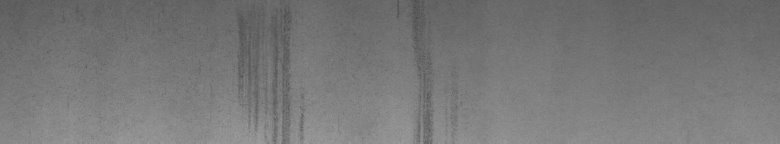ka: (236, 12, 304, 136)
